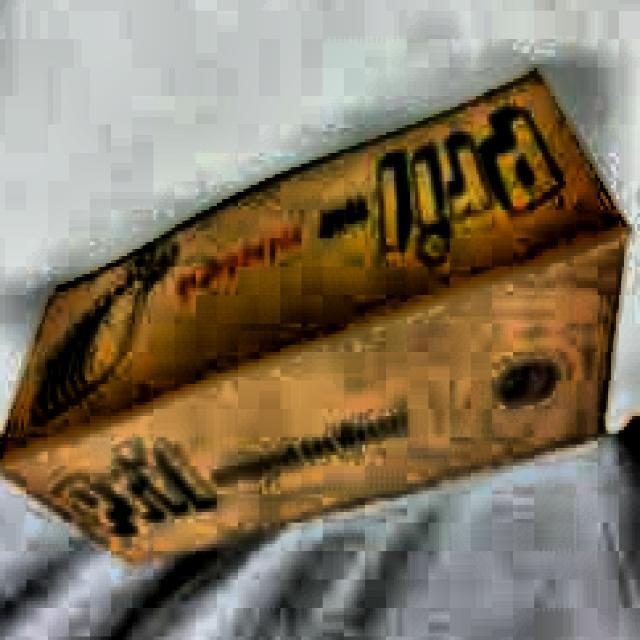cardboard: (0, 68, 635, 572)
